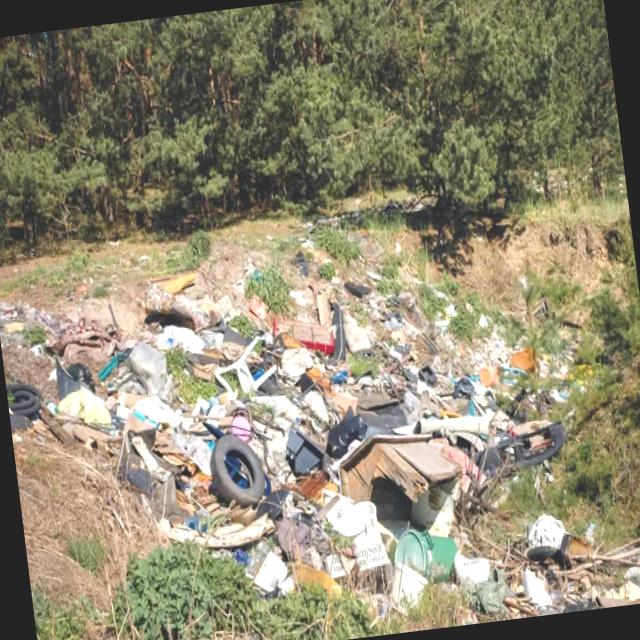garbage: (106, 235, 567, 600)
